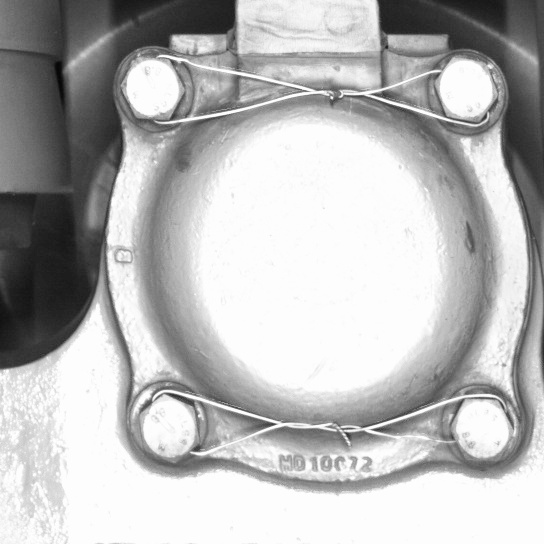IronWire: (112, 47, 508, 132), (133, 385, 527, 467)
Screw: (424, 47, 507, 133), (439, 385, 524, 468), (113, 48, 193, 129), (132, 386, 207, 469)
